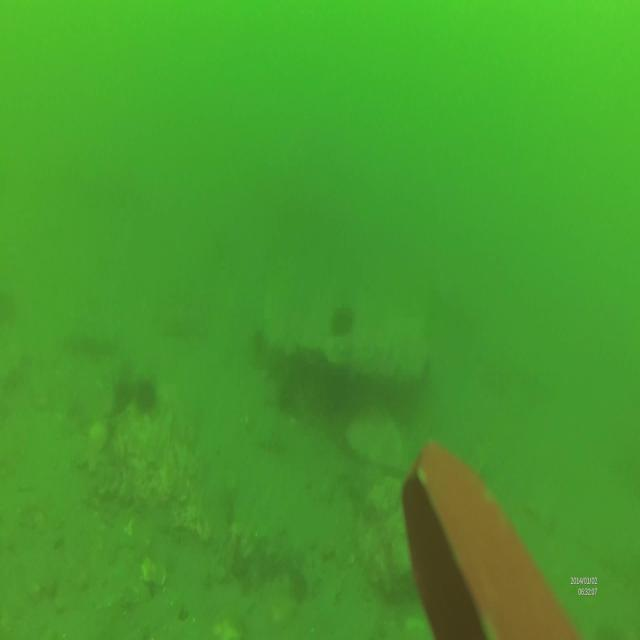echinus: (136, 377, 159, 412), (332, 304, 352, 337)
